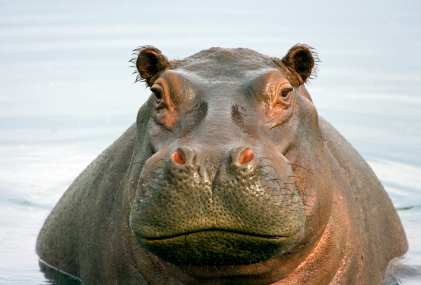Hippopotamus: (33, 41, 412, 284)
